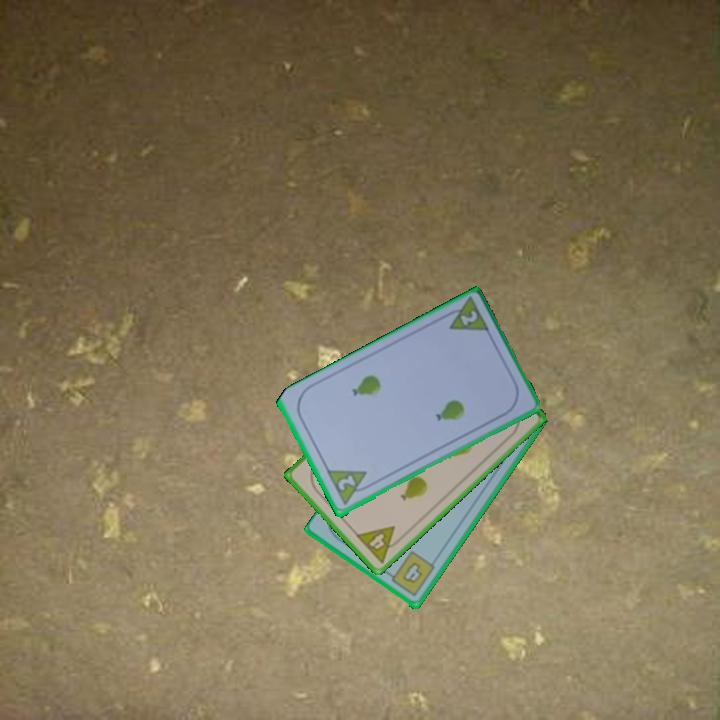2p: (438, 295, 493, 336), (323, 466, 375, 509)
4b: (383, 548, 438, 600)
4p: (352, 522, 407, 566)
